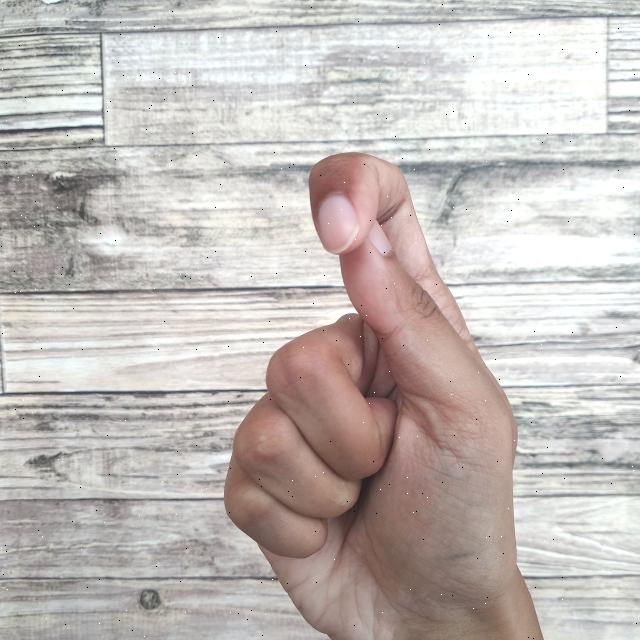T: (219, 146, 548, 640)
